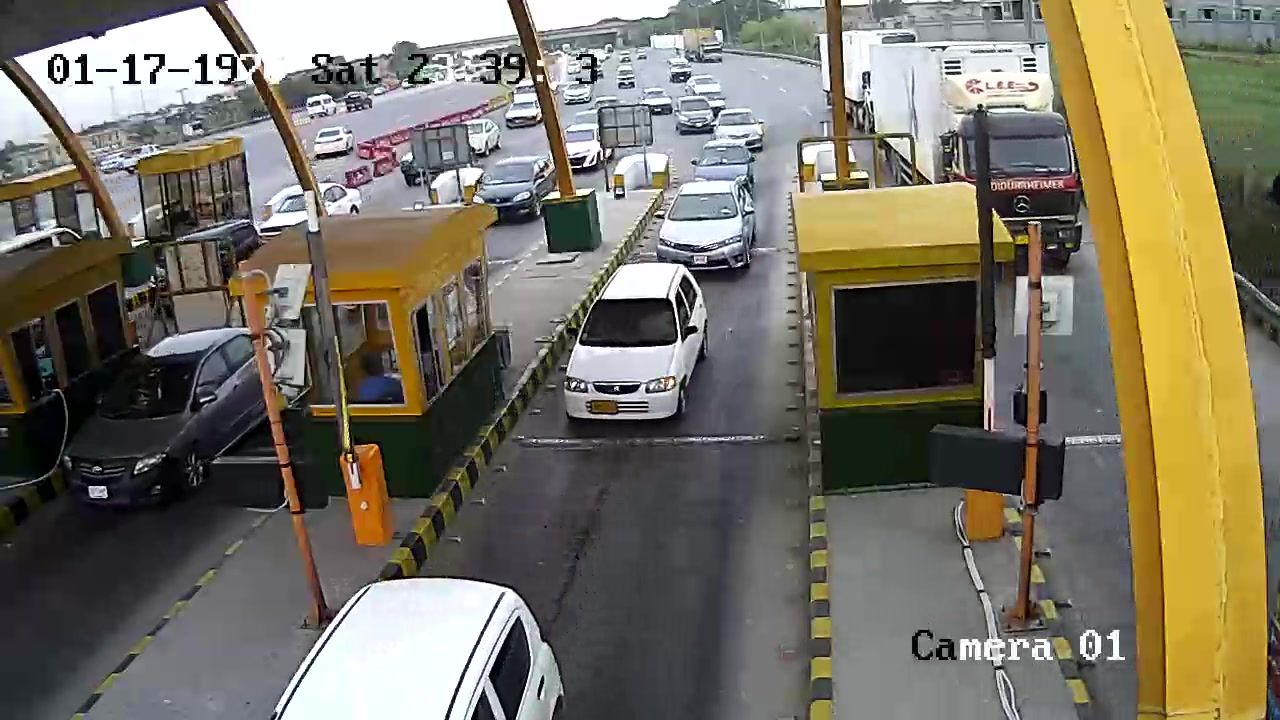F1: (546, 262, 732, 440)
